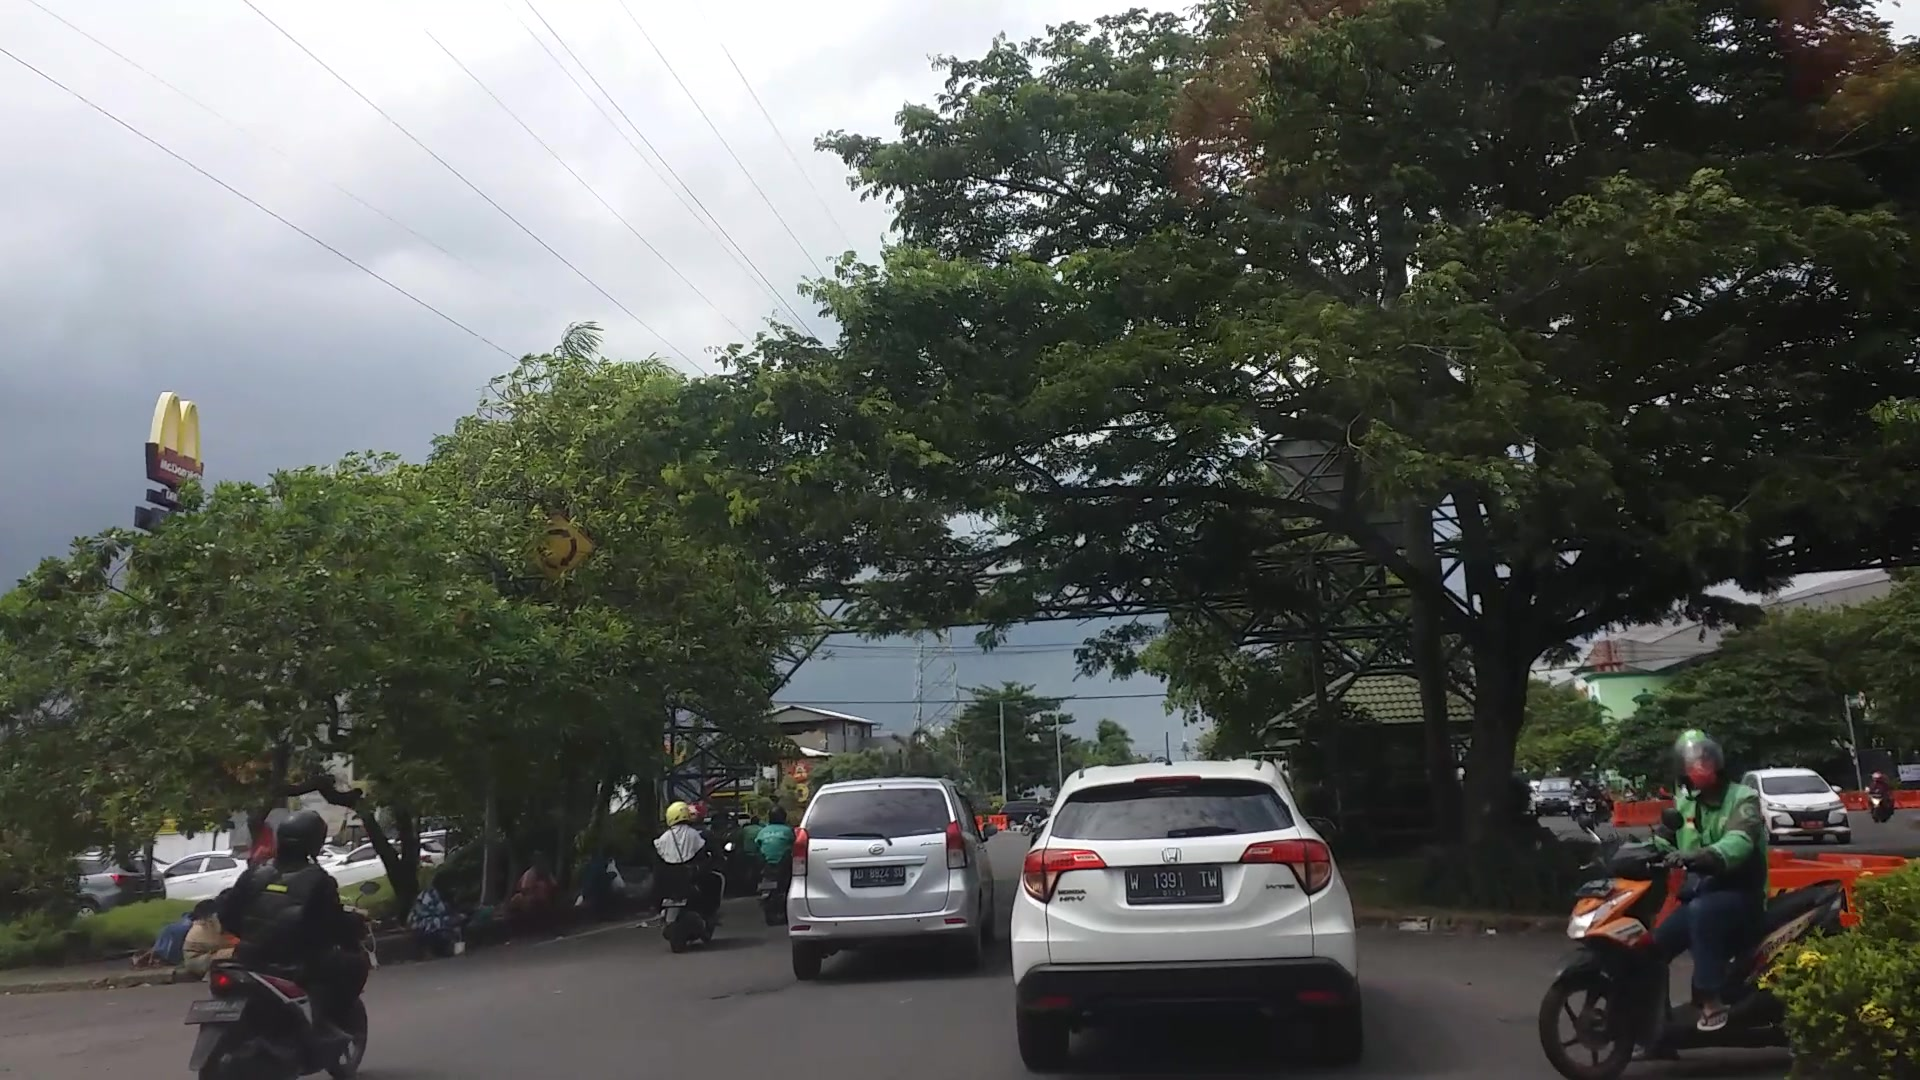plate_positive: (1125, 866, 1222, 905), (851, 866, 905, 886)
